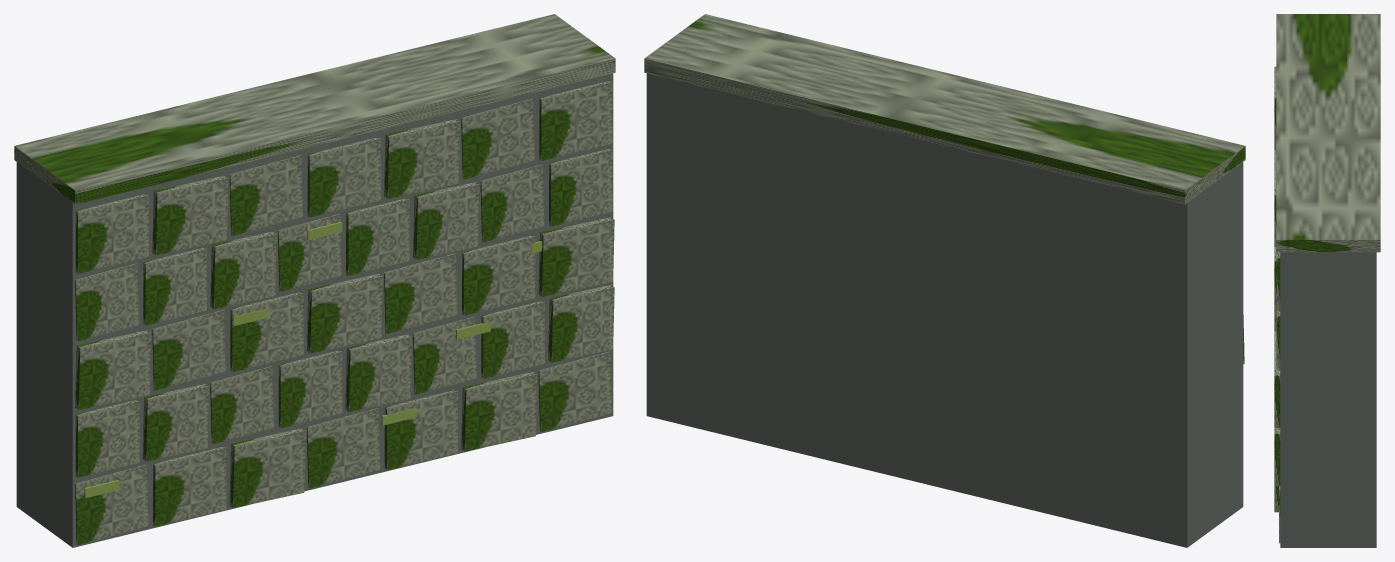
The model's file is stone-retaining-wall.glb.
3 renders of one model, left to right at view 1: azimuth 30°, elevation 25°; view 2: azimuth 150°, elevation 25°; view 3: azimuth 270°, elevation 25°, orthographic. The views are drawn at different scales.
Visible parts, largest first — view 1: stone-retaining-wall; view 2: stone-retaining-wall; view 3: stone-retaining-wall.
Part boxes in pixels (x1,y1,x2,y2): stone-retaining-wall: (14, 14, 615, 547); stone-retaining-wall: (644, 14, 1245, 547); stone-retaining-wall: (1274, 14, 1380, 547).
Size of the model in its own units: 4 by 2.54 by 0.796.
Materials: 6 (4 with a texture image).
